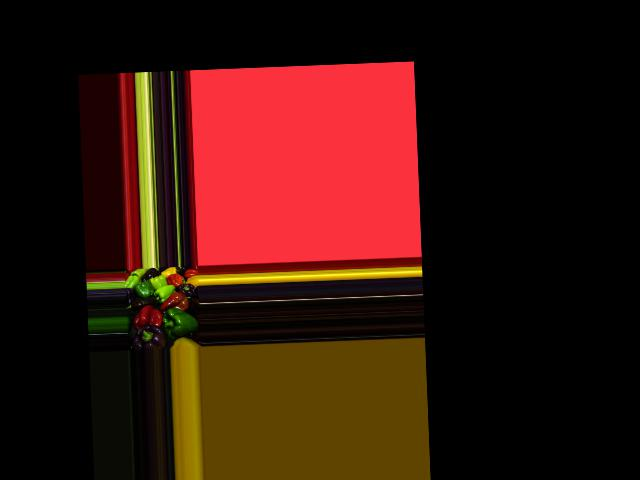bell_pepper: (176, 280, 197, 298)
